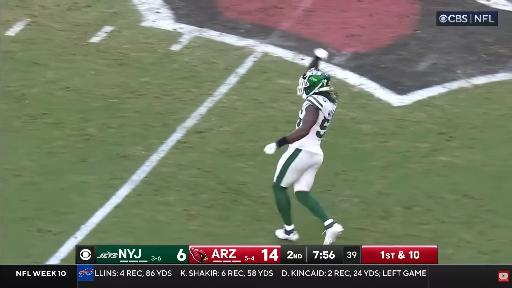Helmet: (298, 68, 330, 98)
Jersey: (290, 95, 336, 154)
Player: (264, 49, 343, 244)
